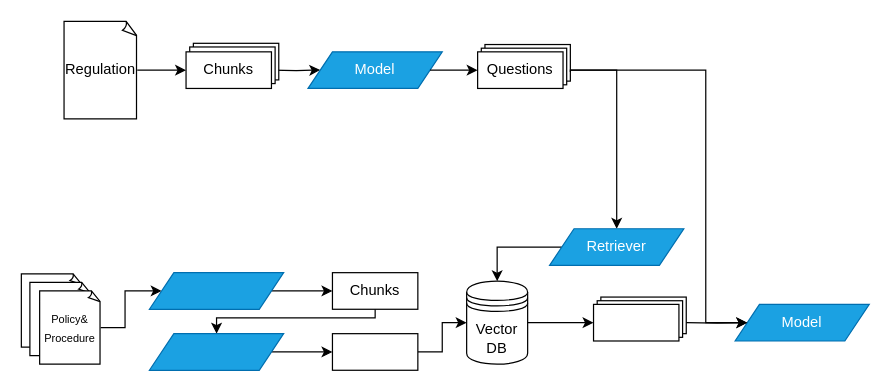
The diagram is 891 pixels wide and 392 high, and some of its shapes have lost their labels. The box of each missing label's shape, as (x1, y1, x2, y2) in pixels:
Chunker: (148, 271, 284, 309)
Collector: (148, 332, 284, 370)
Evidences: (592, 303, 679, 341)
Vectors: (331, 332, 418, 370)
